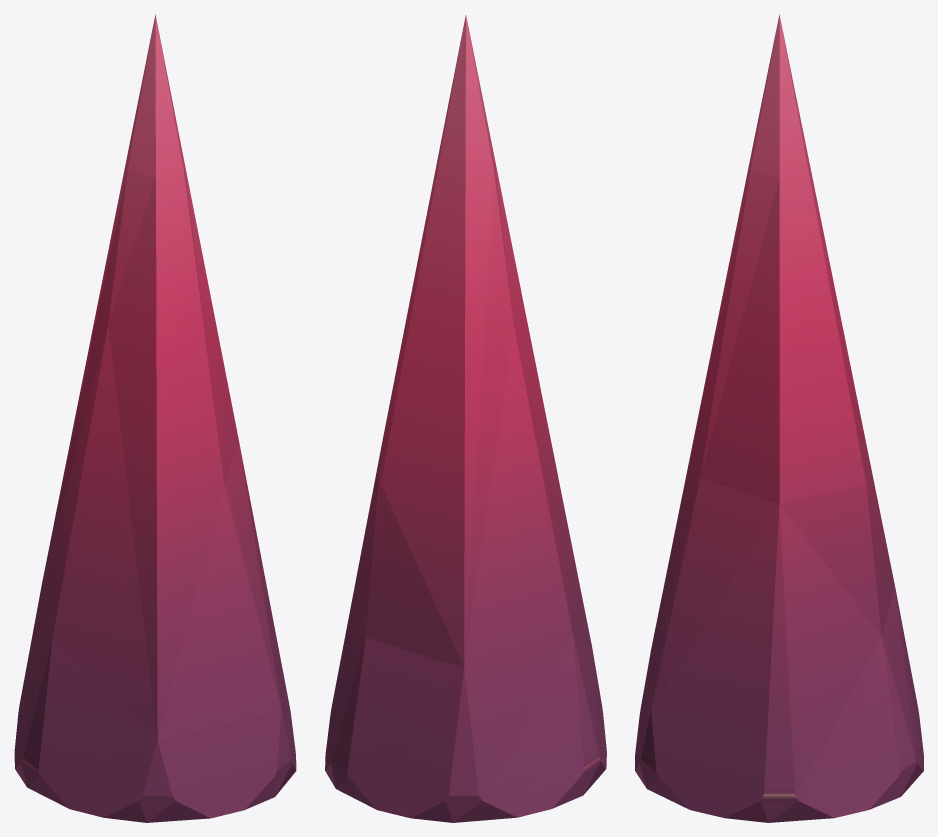
File: Sunset_Plant_001.FBX
3 renders of one model, left to right at view 1: azimuth 30°, elevation 25°; view 2: azimuth 150°, elevation 25°; view 3: azimuth 270°, elevation 25°, orthographic.
Visible parts, largest first — view 1: Sunset_Plant_001; view 2: Sunset_Plant_001; view 3: Sunset_Plant_001.
Part boxes in pixels (left/top/right/bottom): Sunset_Plant_001: left=14, top=14, right=296, bottom=822; Sunset_Plant_001: left=325, top=15, right=606, bottom=822; Sunset_Plant_001: left=635, top=14, right=923, bottom=822.
Size of the model in its own units: 59.91 by 170 by 59.3.
Materials: 1 (1 with a texture image).
